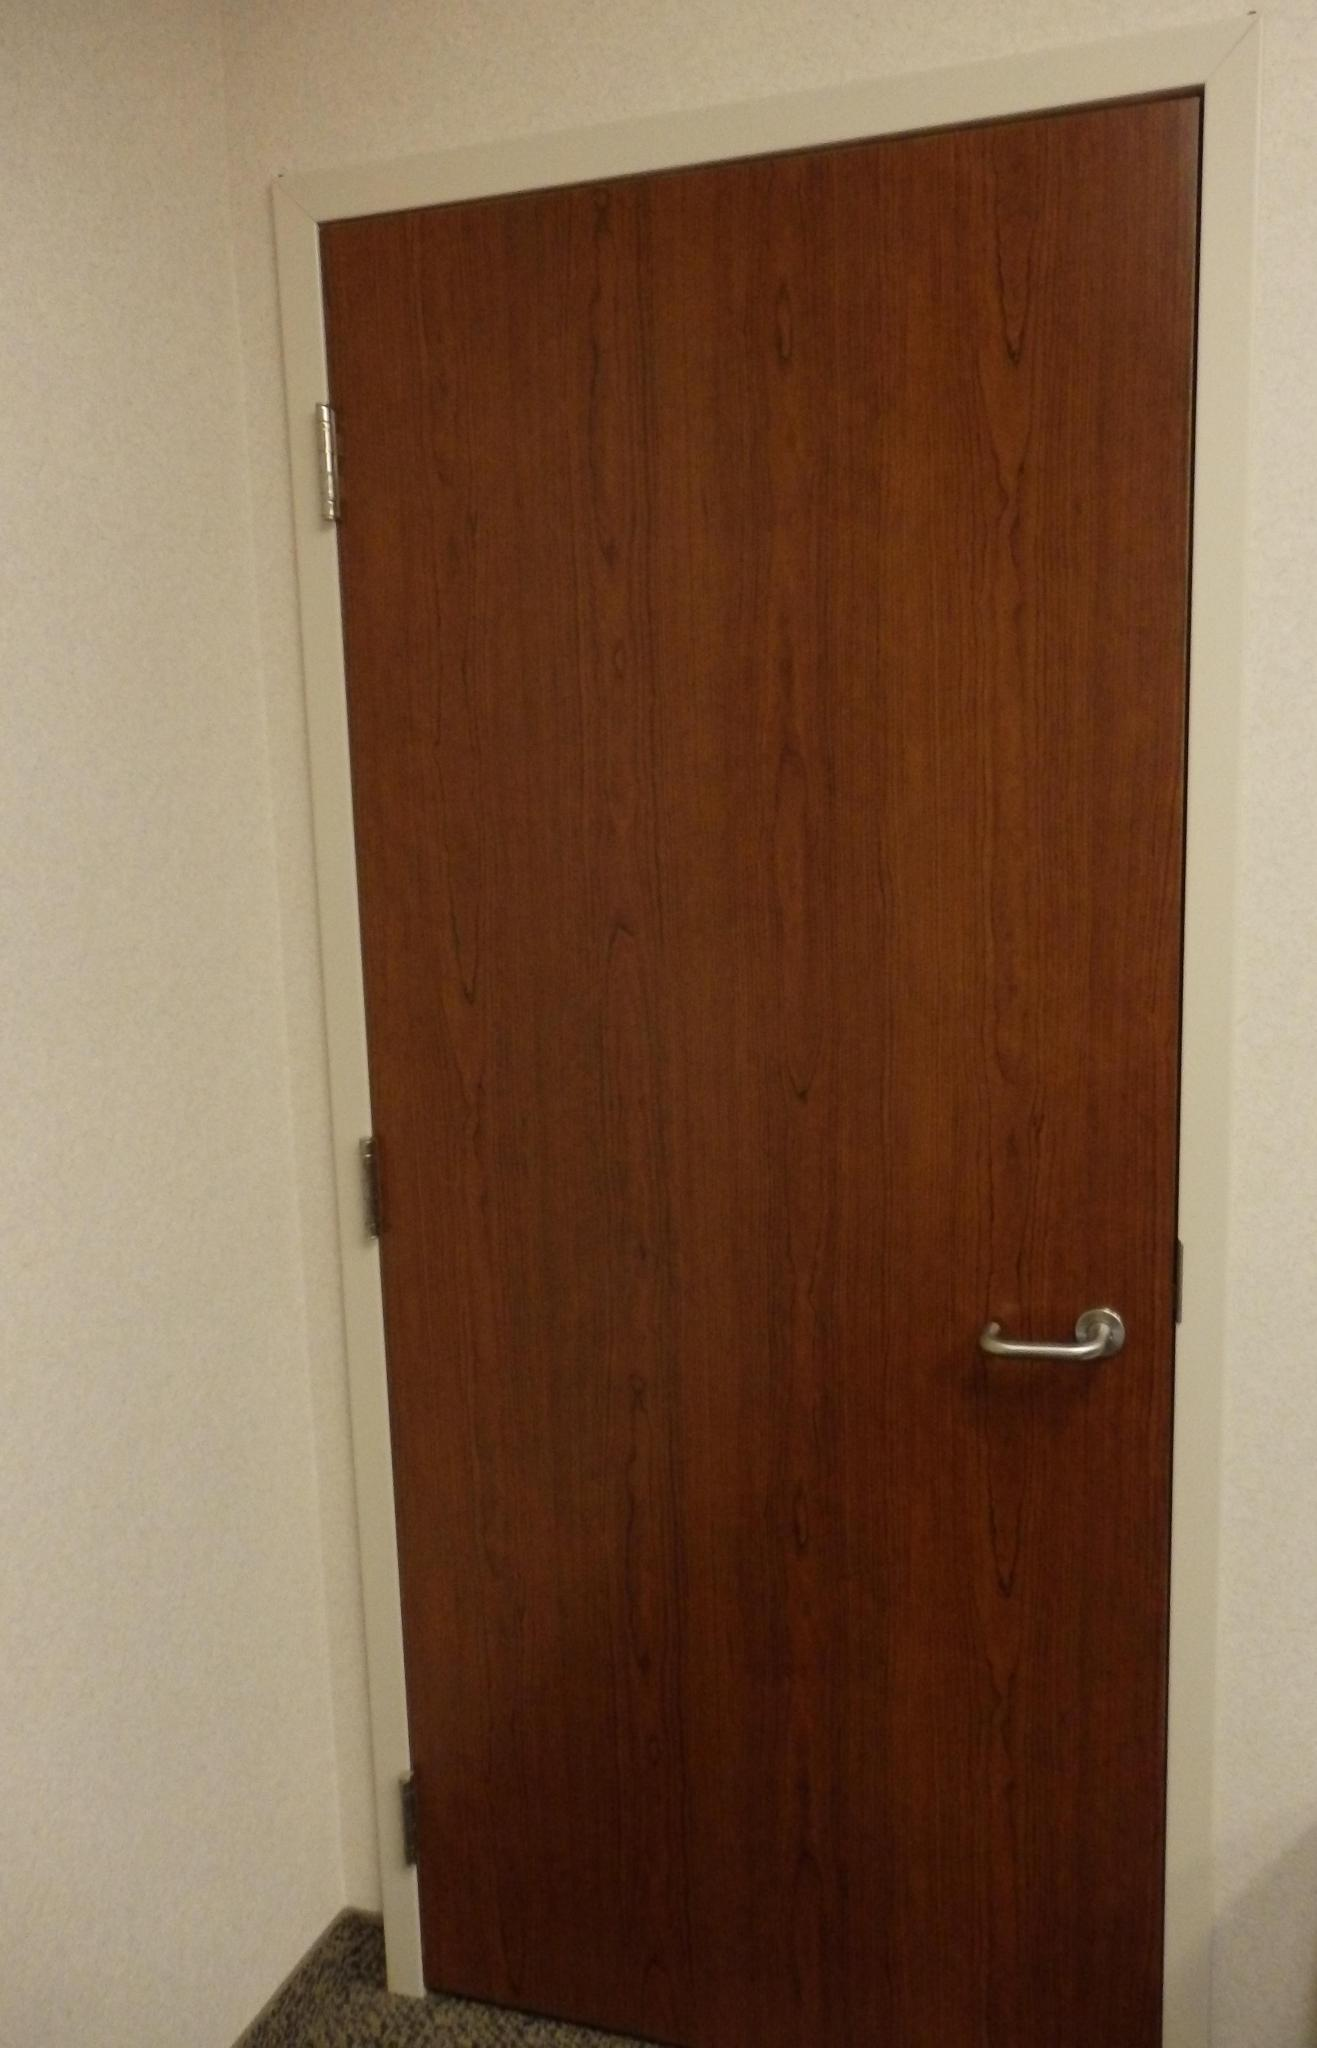door: (363, 249, 1160, 2036)
handle: (968, 1294, 1124, 1394)
